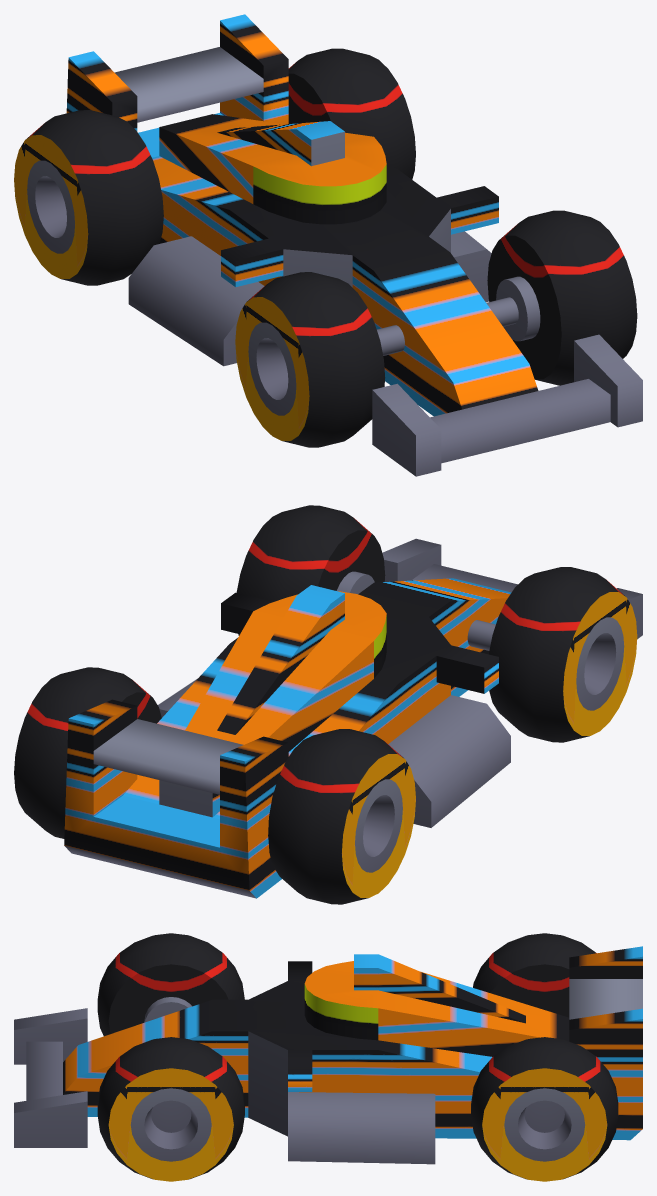
The model's file is car_mclaren.obj.
3 views of the same model, one above another, from view 1: azimuth 30°, elevation 25°; view 2: azimuth 150°, elevation 25°; view 3: azimuth 270°, elevation 25° (orthographic). The views are drawn at different scales.
Visible parts, largest first — view 1: body, wheel-back-right, wheel-front-right, wheel-front-left, wheel-back-left; view 2: body, wheel-back-right, wheel-front-right, wheel-front-left, wheel-back-left; view 3: body, wheel-back-left, wheel-front-left, wheel-front-right, wheel-back-right.
Boxes of the visible parts, bbox=[...] form: body: bbox=[66, 14, 642, 476]; wheel-back-right: bbox=[14, 110, 163, 285]; wheel-front-right: bbox=[235, 272, 385, 447]; wheel-front-left: bbox=[487, 210, 637, 385]; wheel-back-left: bbox=[288, 48, 415, 179]; body: bbox=[64, 538, 642, 898]; wheel-back-right: bbox=[268, 729, 415, 904]; wheel-front-right: bbox=[489, 567, 637, 742]; wheel-front-left: bbox=[236, 505, 385, 635]; wheel-back-left: bbox=[14, 667, 161, 838]; body: bbox=[14, 946, 642, 1164]; wheel-back-left: bbox=[471, 1037, 618, 1181]; wheel-front-left: bbox=[97, 1037, 244, 1181]; wheel-front-right: bbox=[97, 933, 244, 1036]; wheel-back-right: bbox=[473, 933, 596, 1017].
Size of the model in its own units: 1.3 by 0.7325 by 2.56.
1 material, 1 textured.
